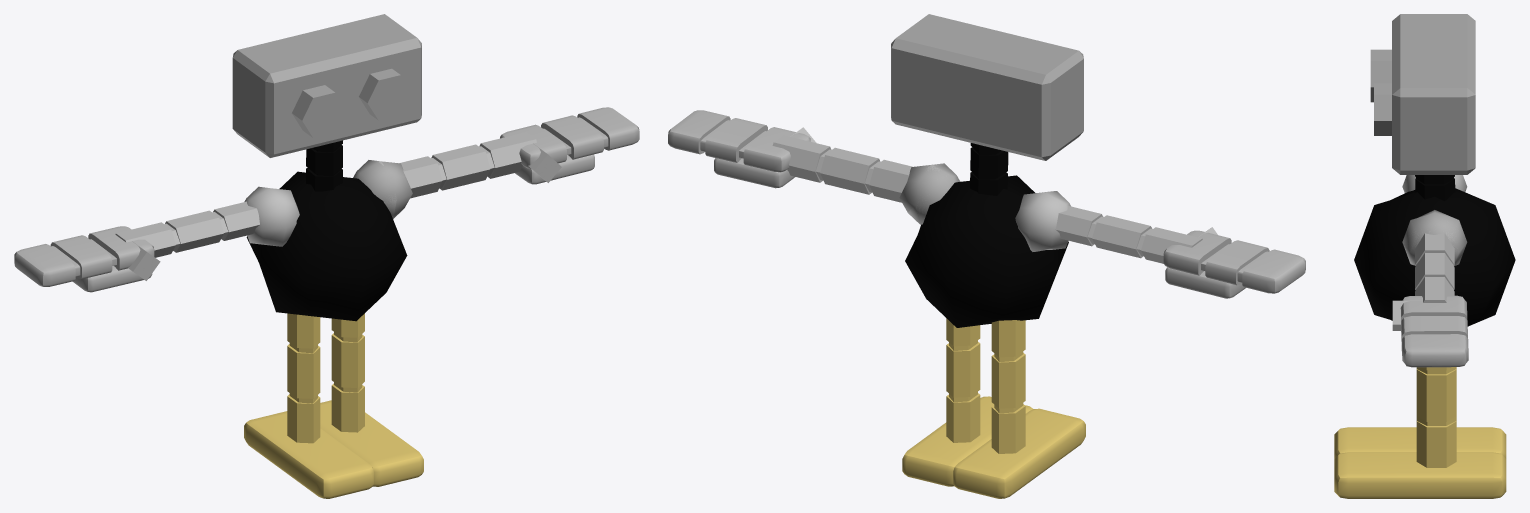
Rendered from ROBOT.fbx.
The picture shows the model from 3 angles, left to right: view 1: azimuth 30°, elevation 25°; view 2: azimuth 150°, elevation 25°; view 3: azimuth 270°, elevation 25°; orthographic projection. The views are drawn at different scales.
Visible parts, largest first — view 1: group2_pCube8, group2_pCylinder6, pCube1, pCylinder10, pCylinder9, pCylinder7, pCube2; view 2: group2_pCube8, pCube1, group2_pCylinder6, pCylinder10, pCube2; view 3: group2_pCylinder6, pCube1, pCylinder10, group2_pCube8, pCube2, pCylinder7, pCylinder9, pCylinder2.
Part boxes in pixels (x1,y1,x2,y2): group2_pCube8: (14, 107, 639, 292); group2_pCylinder6: (244, 313, 423, 498); pCube1: (232, 14, 421, 157); pCylinder10: (246, 140, 407, 321); pCylinder9: (292, 85, 346, 137); pCylinder7: (359, 68, 411, 120); pCube2: (353, 160, 412, 218); group2_pCube8: (668, 110, 1305, 298); pCube1: (891, 14, 1083, 160); group2_pCylinder6: (902, 318, 1085, 498); pCylinder10: (905, 143, 1068, 327); pCube2: (899, 163, 960, 217); group2_pCylinder6: (1334, 367, 1506, 498); pCube1: (1392, 14, 1475, 174); pCylinder10: (1354, 175, 1515, 326); group2_pCube8: (1392, 175, 1468, 367); pCube2: (1402, 210, 1467, 266); pCylinder7: (1374, 83, 1391, 135); pCylinder9: (1370, 49, 1391, 102); pCylinder2: (1381, 49, 1391, 83).
Size of the model in its own units: 18.56 by 12.15 by 4.7.
Materials: 5 (1 with a texture image).
